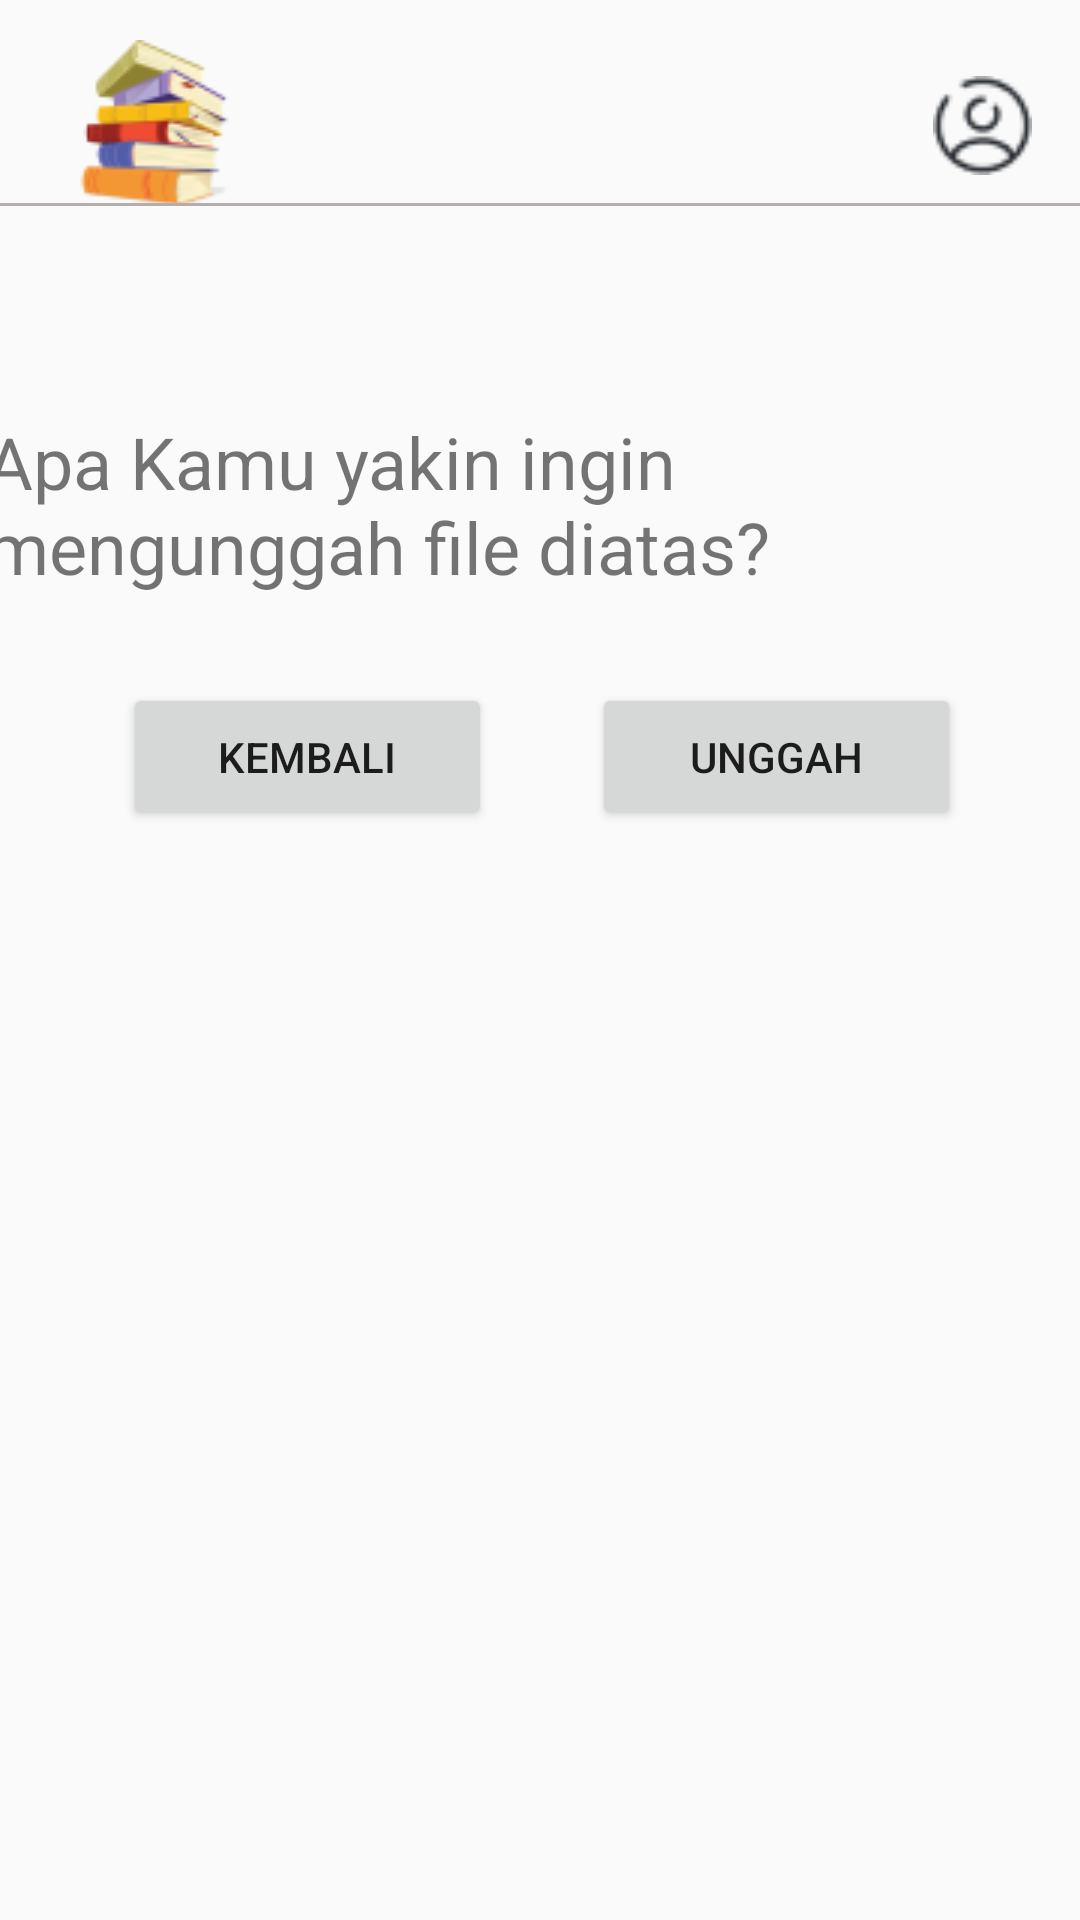

Where icons sit on this 1080 × 1920 app screen, as box(x1, y1, x2, y2):
buku: box(69, 40, 243, 205)
profile: box(933, 76, 1032, 175)
